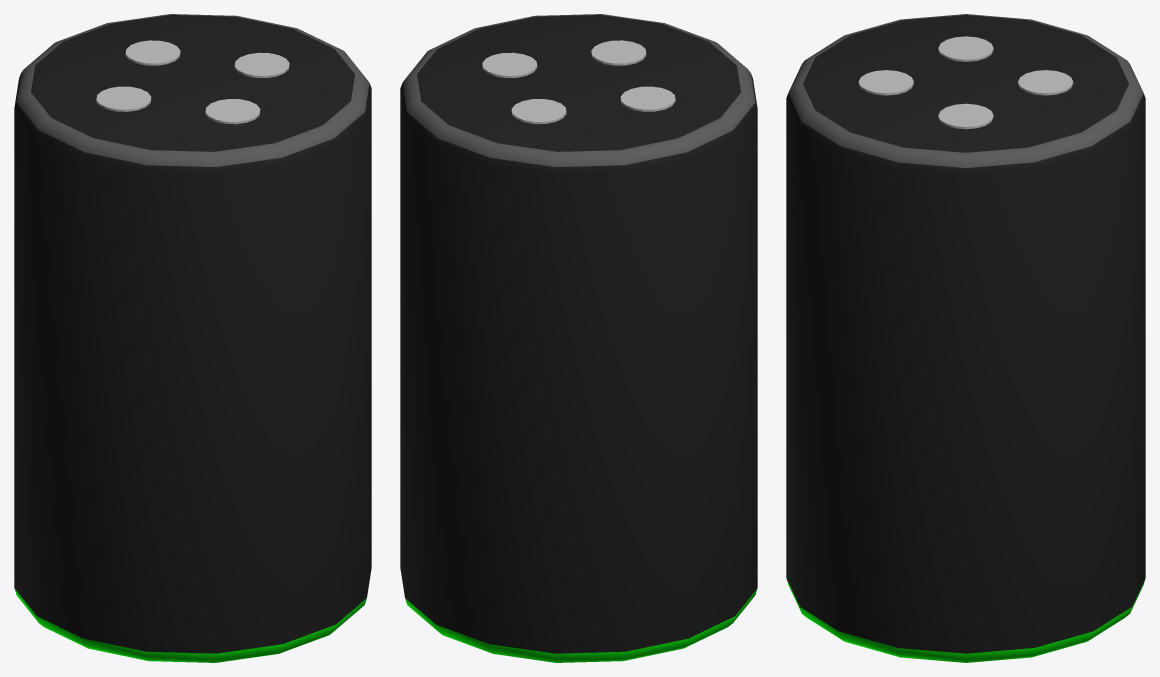
The model's file is Prop_HomeSpeaker_01.fbx.
3 views of the same model, side by side, from view 1: azimuth 30°, elevation 25°; view 2: azimuth 150°, elevation 25°; view 3: azimuth 270°, elevation 25° (orthographic).
Visible parts, largest first — view 1: Prop_HomeSpeaker_01; view 2: Prop_HomeSpeaker_01; view 3: Prop_HomeSpeaker_01.
Part boxes in pixels (x1,y1,x2,y2): Prop_HomeSpeaker_01: [14, 14, 371, 662]; Prop_HomeSpeaker_01: [400, 14, 757, 662]; Prop_HomeSpeaker_01: [786, 14, 1145, 662].
Size of the model in its own units: 13.56 by 21.25 by 13.56.
